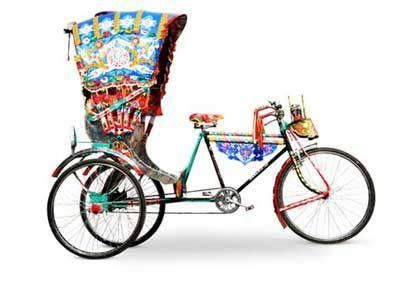Rickshaw: (47, 11, 374, 257)
